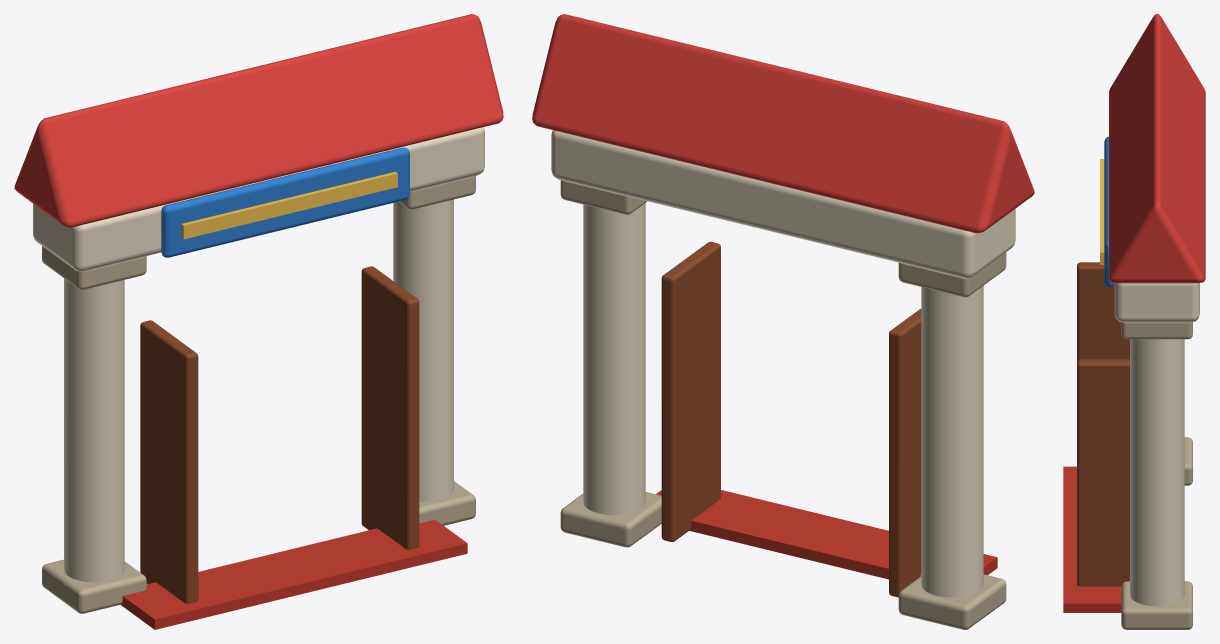
Rendered from facade.glb.
The picture shows the model from 3 angles, left to right: view 1: azimuth 30°, elevation 25°; view 2: azimuth 150°, elevation 25°; view 3: azimuth 270°, elevation 25°; orthographic projection. The views are drawn at different scales.
Visible parts, largest first — view 1: facade; view 2: facade; view 3: facade.
Part boxes in pixels (box(x1,y1,x2,y2)): facade: box(14, 14, 503, 629); facade: box(532, 14, 1034, 629); facade: box(1063, 14, 1205, 629).
Bounding box in the file's own units: 2.7 × 2.83 × 0.8332.
